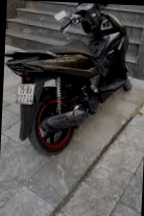Bien-so: (14, 82, 36, 103)
